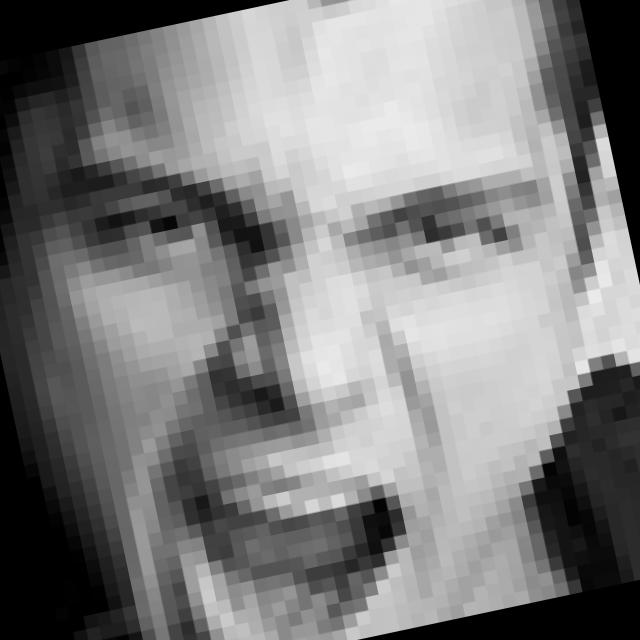angry: (45, 66, 623, 640)
